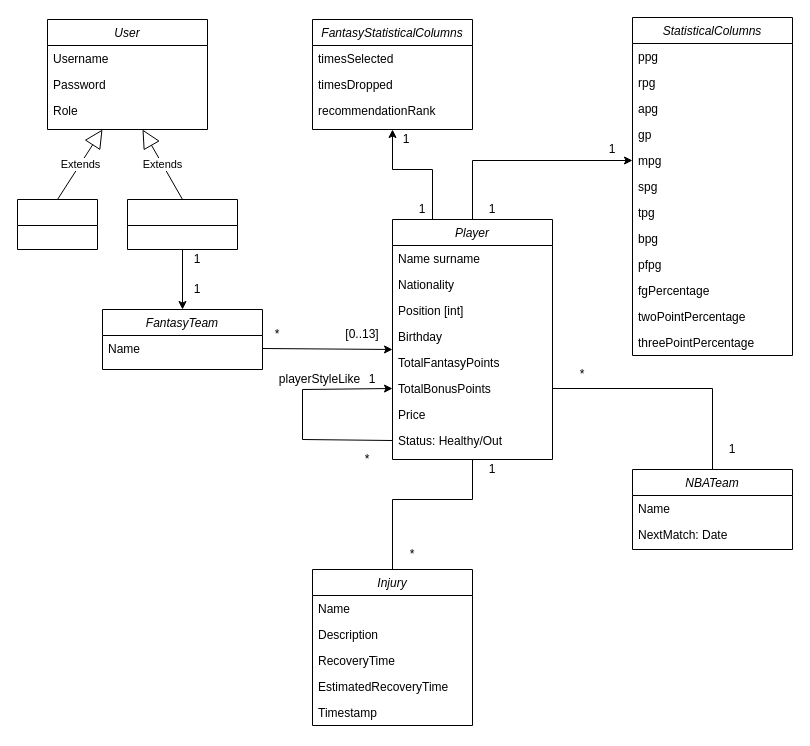
Image size: 810x746. Some labels were removed from this diagram. Each missing label, with the centre of its shape:
"Admin" belongs at point 57,224.
"Manager" belongs at point 182,224.
